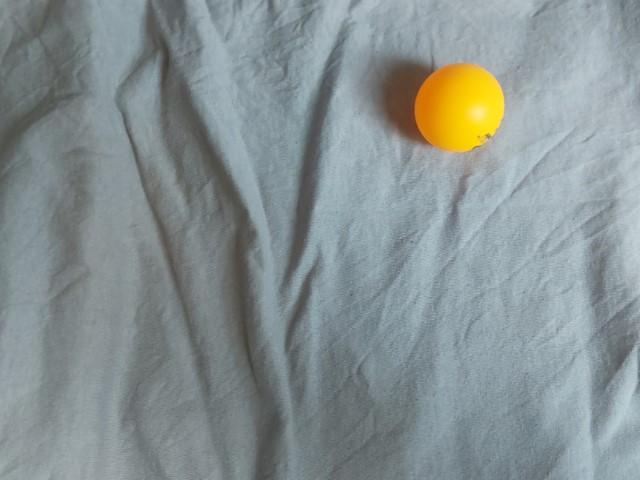oball: (129, 321, 234, 423)
